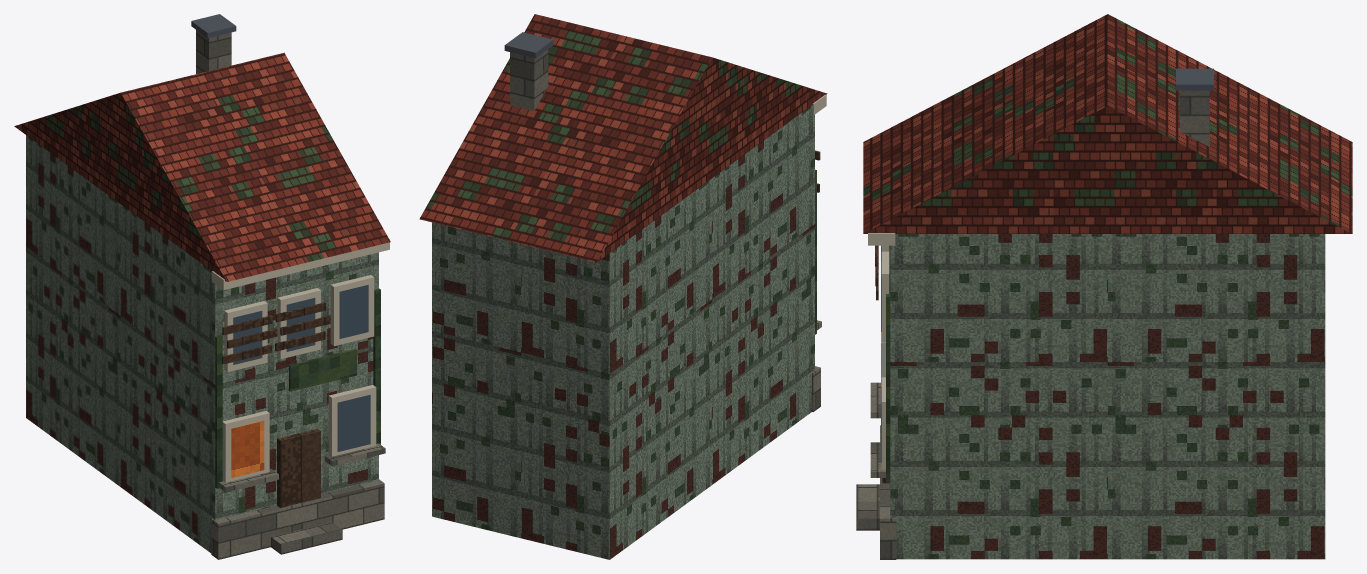
Rendered from ENV_C_Facade_3.fbx.
The picture shows the model from 3 angles, left to right: view 1: azimuth 30°, elevation 25°; view 2: azimuth 150°, elevation 25°; view 3: azimuth 270°, elevation 25°; orthographic projection. The views are drawn at different scales.
Visible parts, largest first — view 1: ENV_C_Facade_3; view 2: ENV_C_Facade_3; view 3: ENV_C_Facade_3.
Part boxes in pixels (x1,y1,x2,y2): ENV_C_Facade_3: (14,14,390,559); ENV_C_Facade_3: (419,14,827,559); ENV_C_Facade_3: (856,14,1352,559).
Size of the model in its own units: 406 by 942 by 913.
Materials: 10 (7 with a texture image).
